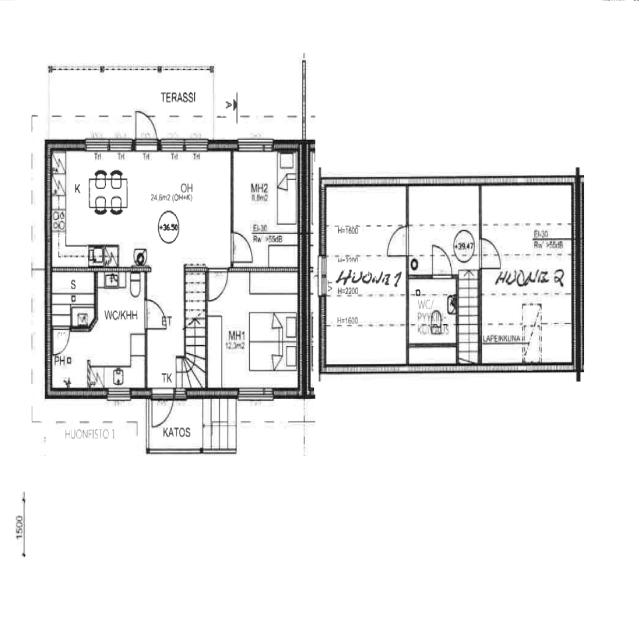door: (133, 107, 159, 150), (150, 388, 175, 432), (229, 227, 255, 266), (430, 240, 454, 280), (143, 294, 168, 332), (385, 223, 410, 260), (478, 233, 502, 271), (207, 265, 230, 303), (50, 322, 72, 356), (320, 255, 334, 300)
window: (234, 134, 277, 155), (82, 136, 132, 154), (233, 383, 276, 403), (318, 252, 332, 298), (104, 384, 136, 404), (182, 135, 210, 156), (159, 136, 187, 154), (173, 384, 190, 402)
zone: (46, 148, 233, 266), (478, 183, 574, 368), (322, 182, 408, 373), (206, 268, 300, 394), (230, 146, 304, 268), (407, 183, 481, 275), (92, 269, 145, 392), (407, 273, 458, 348), (48, 265, 96, 327), (49, 326, 92, 393), (185, 266, 206, 322)
